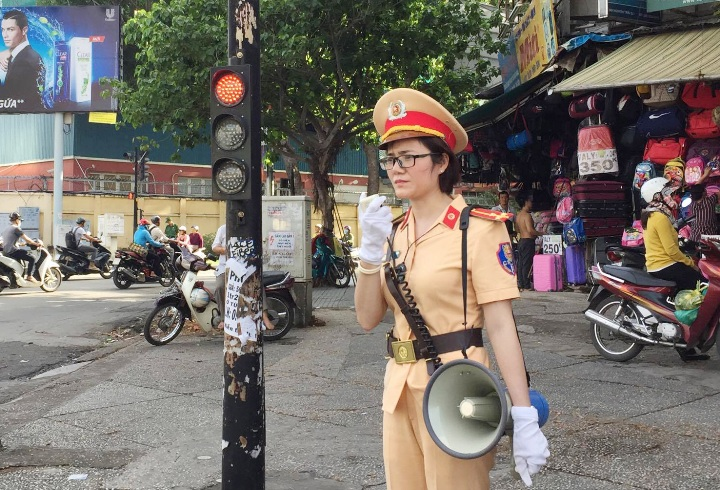police: (342, 86, 556, 487)
